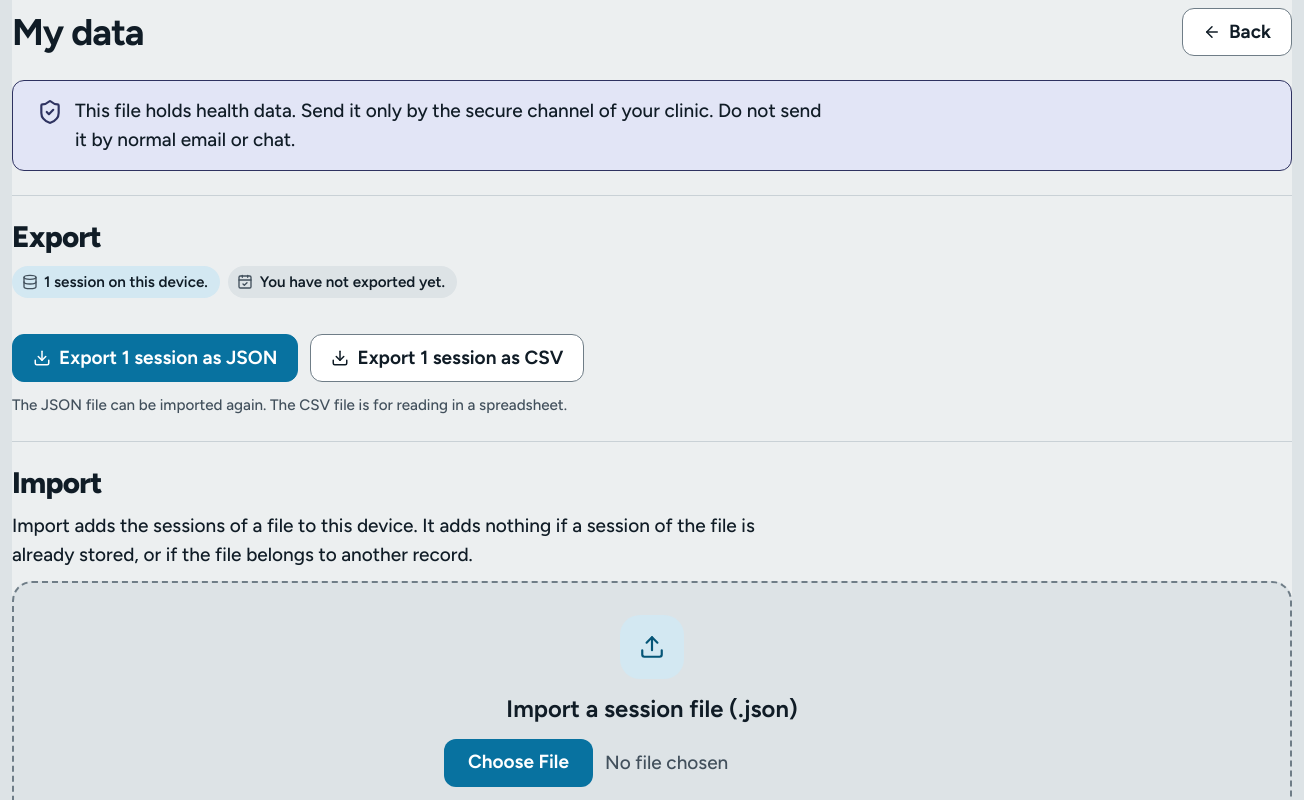
Scenario: C4 My data › says File saved with the file name after a download
Click the button "Export 1 session as JSON". click: coordinates (155, 358)
box: [12, 334, 298, 382]
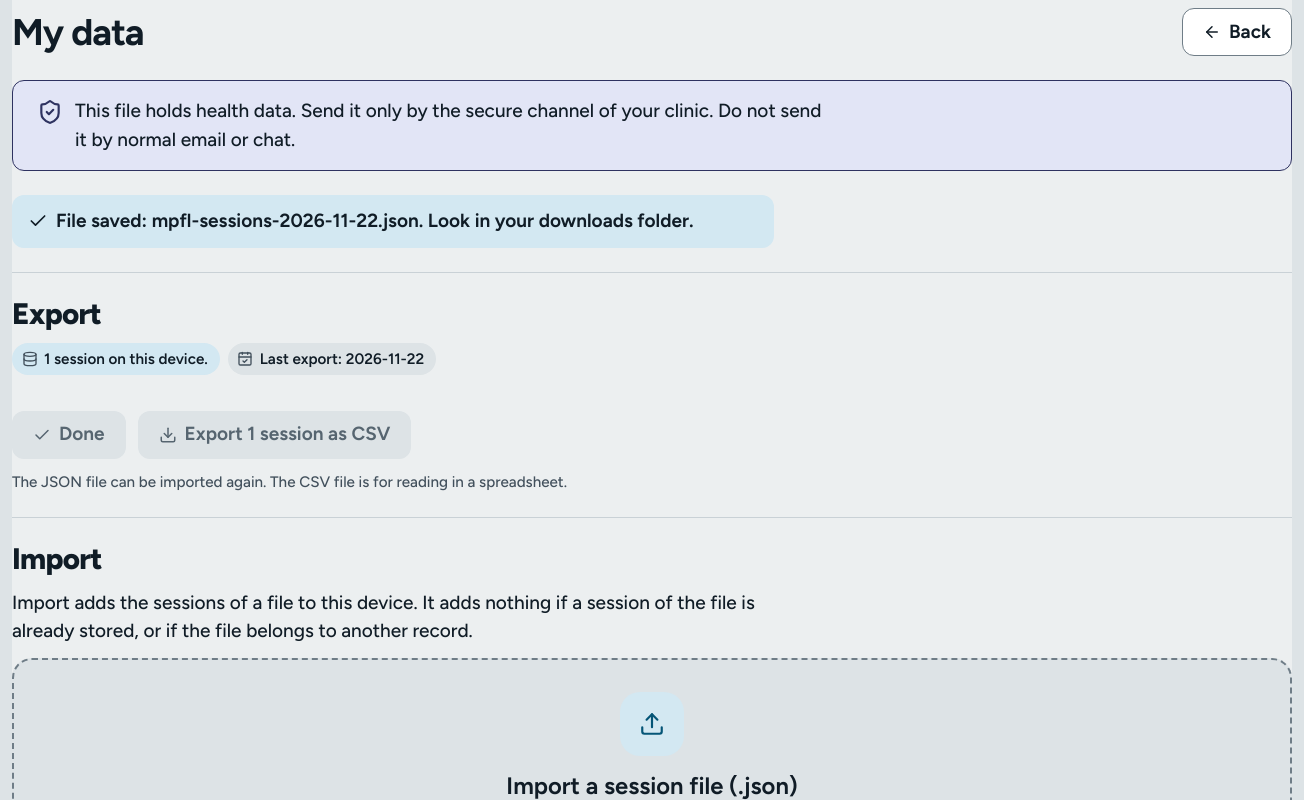
Now the message reads "File saved: mpfl-sessions-2026-11-22.json. Look in your downloads folder.", box [56, 209, 694, 232]
